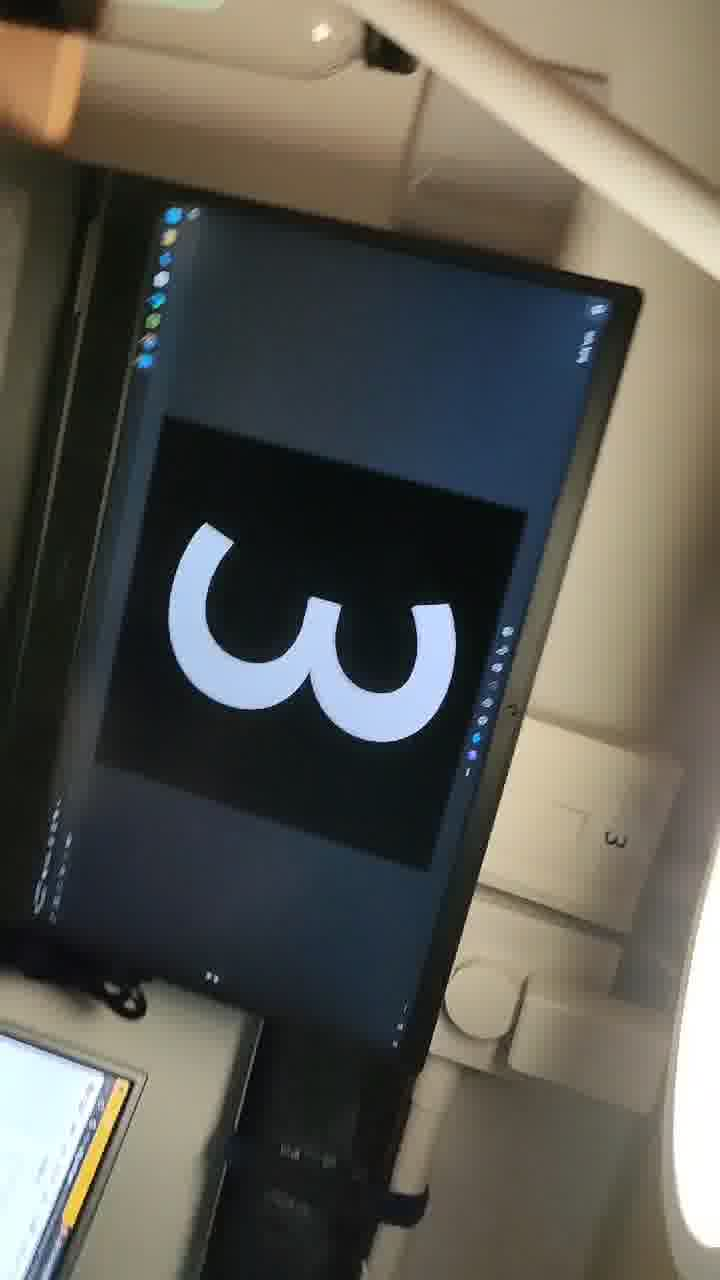three: (128, 502, 471, 812)
